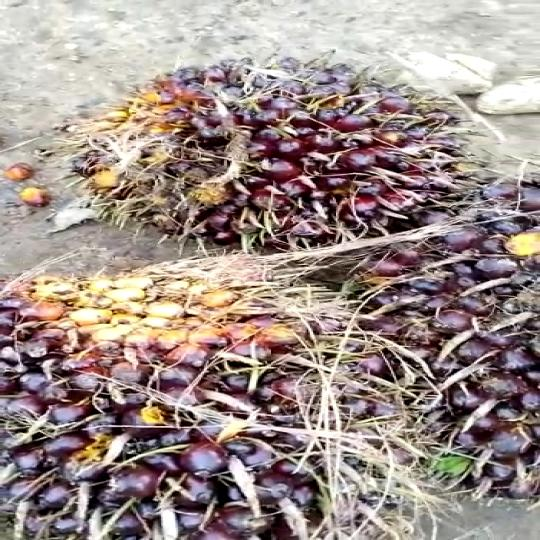kurang masak: (0, 240, 423, 539), (90, 37, 483, 256), (360, 157, 540, 498)
